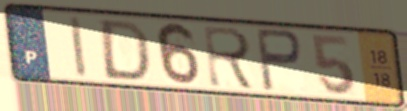5: (308, 31, 358, 98)
6: (153, 19, 202, 88)
D: (99, 17, 152, 83)
I: (68, 14, 90, 80)
P: (253, 26, 306, 94)
R: (201, 23, 259, 92)
